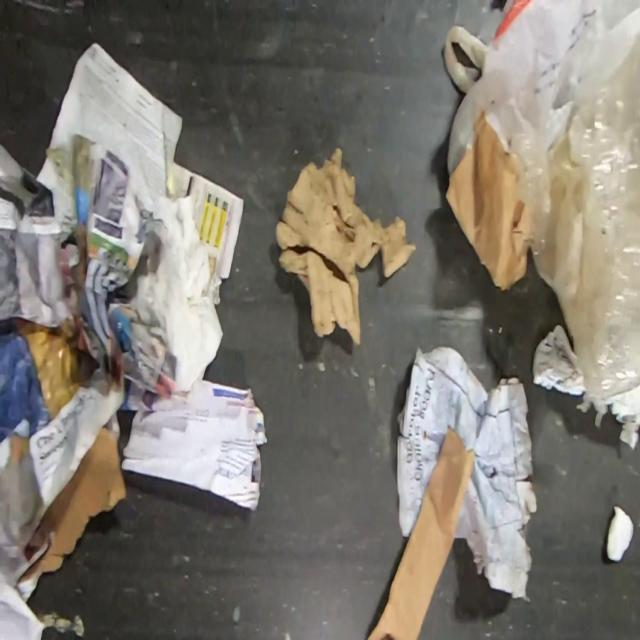cardboard: (274, 148, 417, 345), (366, 423, 474, 640), (16, 426, 128, 582), (444, 111, 532, 291)
soft_plastic: (443, 24, 640, 426), (494, 0, 640, 87)
